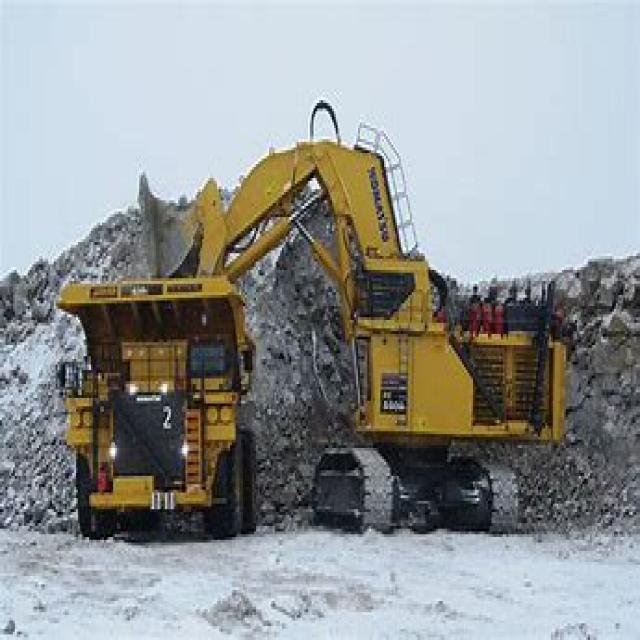dump_truck: (50, 236, 276, 560)
excavator: (141, 148, 555, 548)
